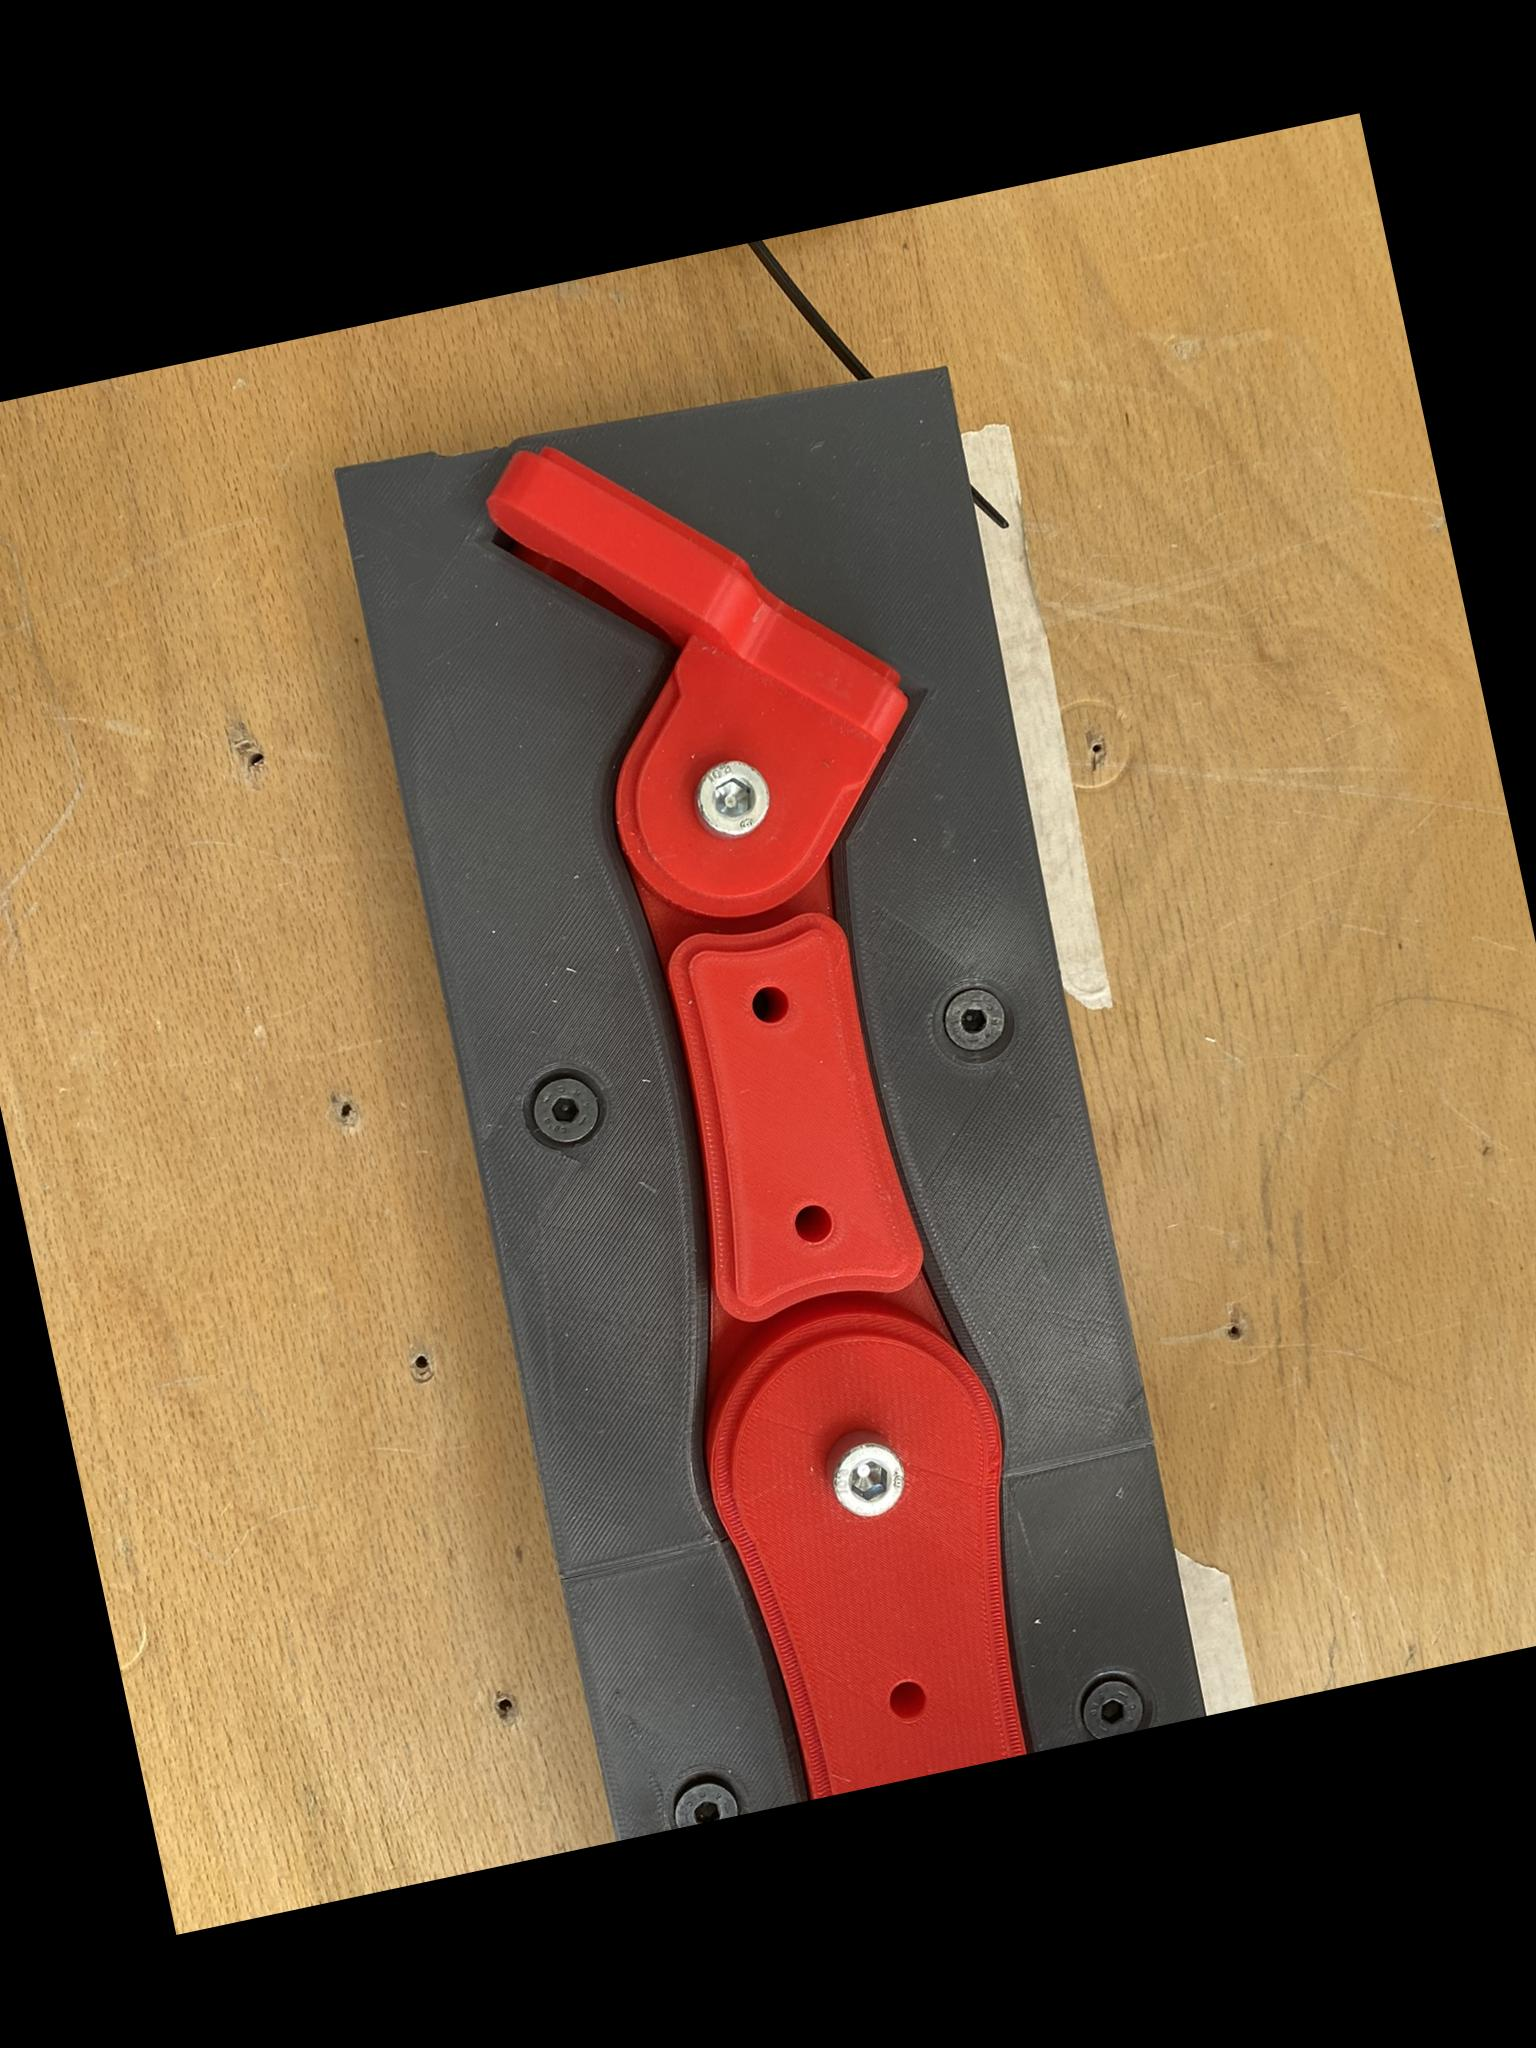H: (689, 751, 778, 842), (820, 1435, 912, 1521), (521, 1068, 608, 1151), (934, 980, 1015, 1056), (1071, 1675, 1150, 1738), (665, 1774, 737, 1830)
